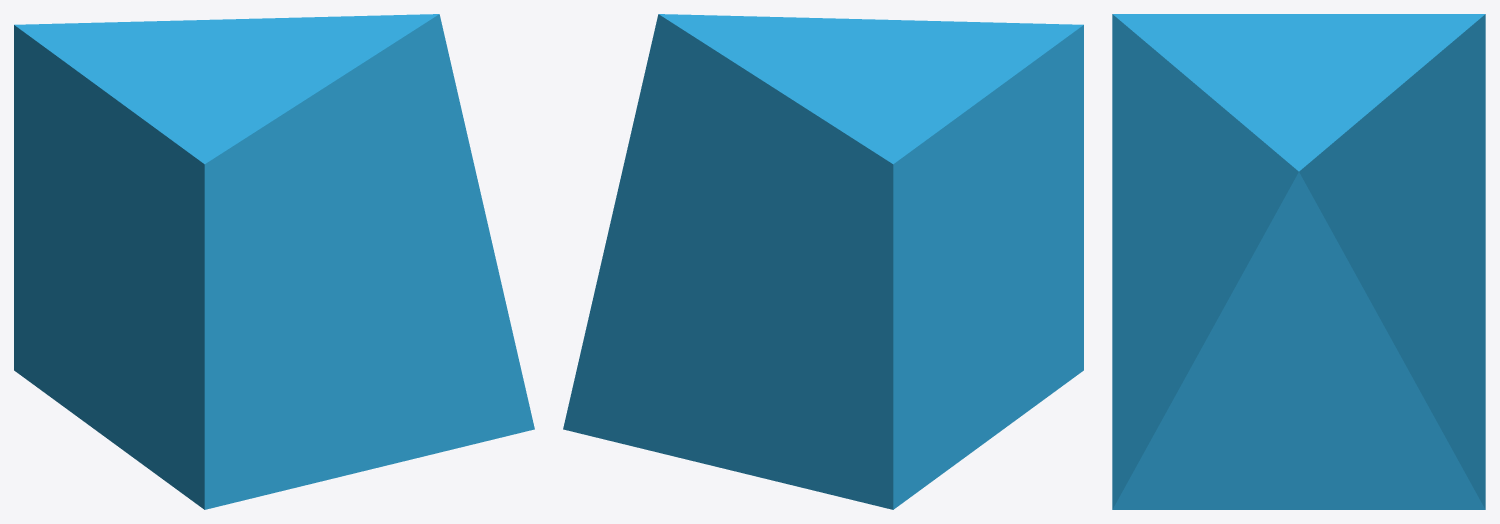
The model's file is forward-merge.glb.
The picture shows the model from 3 angles, left to right: view 1: azimuth 30°, elevation 25°; view 2: azimuth 150°, elevation 25°; view 3: azimuth 270°, elevation 25°; orthographic projection. The views are drawn at different scales.
Visible parts, largest first — view 1: Studio_Cube; view 2: Studio_Cube; view 3: Studio_Cube.
Part boxes in pixels (left/top/right/bottom): Studio_Cube: left=14, top=14, right=534, bottom=509; Studio_Cube: left=563, top=14, right=1083, bottom=509; Studio_Cube: left=1112, top=14, right=1485, bottom=509.
Bounding box in the file's own units: 1 × 1 × 1.
